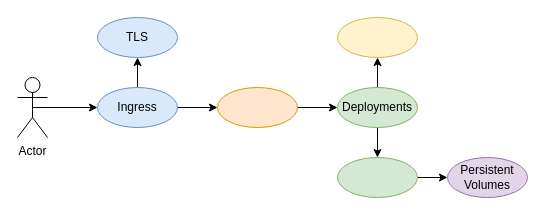
Some shapes in this 545 by 215 pixel diagram are drawn without their labels. Each missing label, with the centre of its shape:
"Config Maps" goes at pixel 377 37.
"Containers (Pods)" goes at pixel 377 177.
"Services" goes at pixel 257 107.
